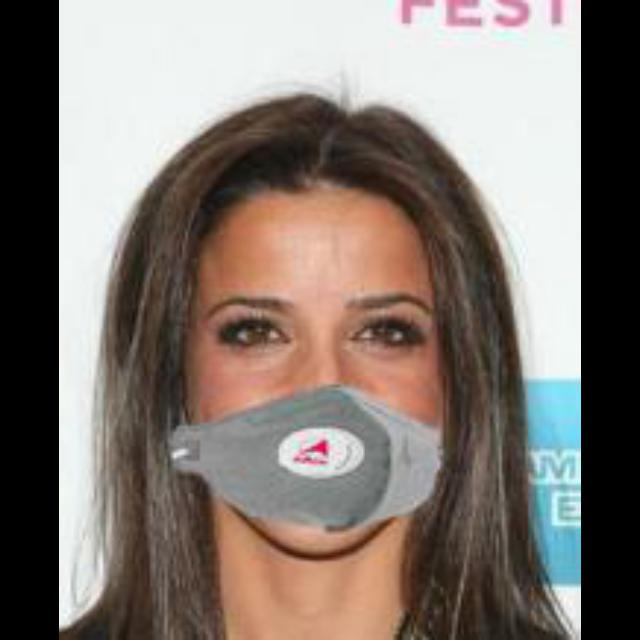suspicion: (172, 82, 492, 566)
